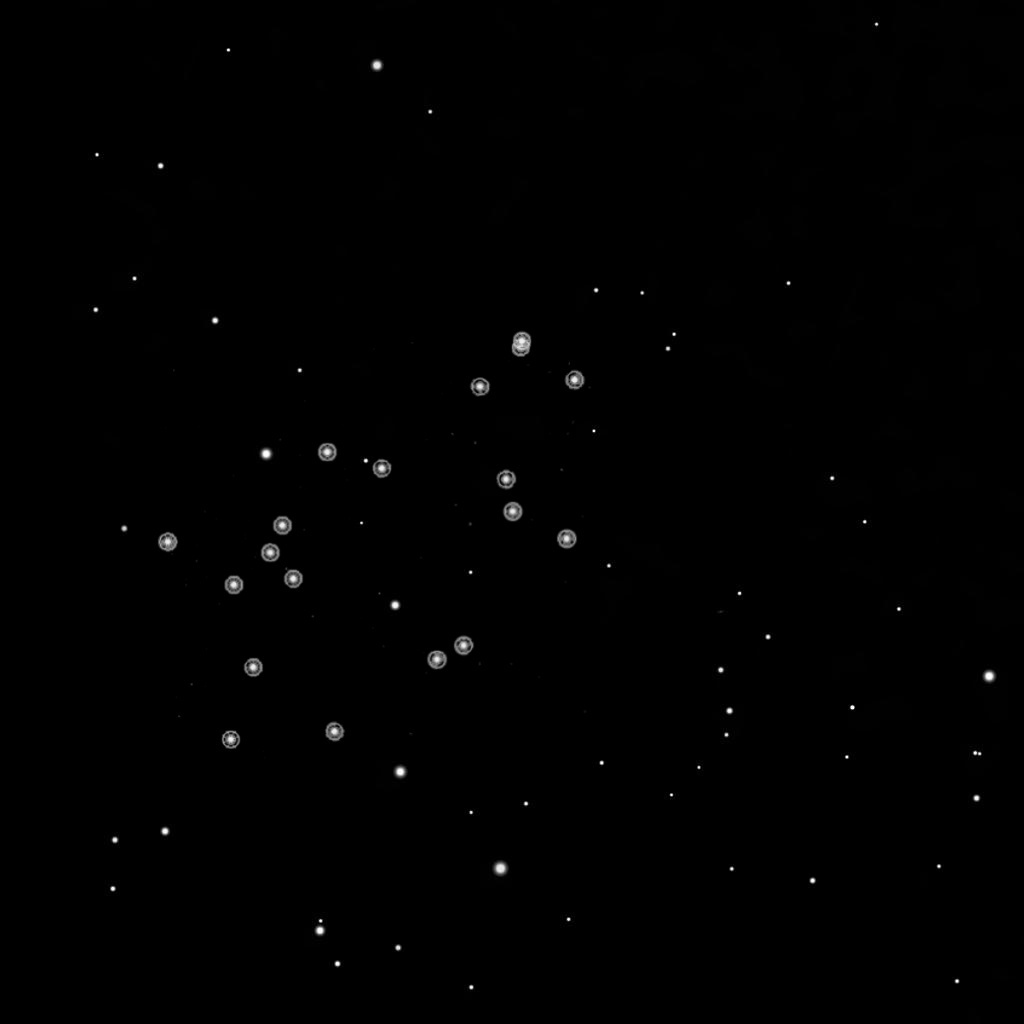canis_major: (212, 440, 398, 603)
